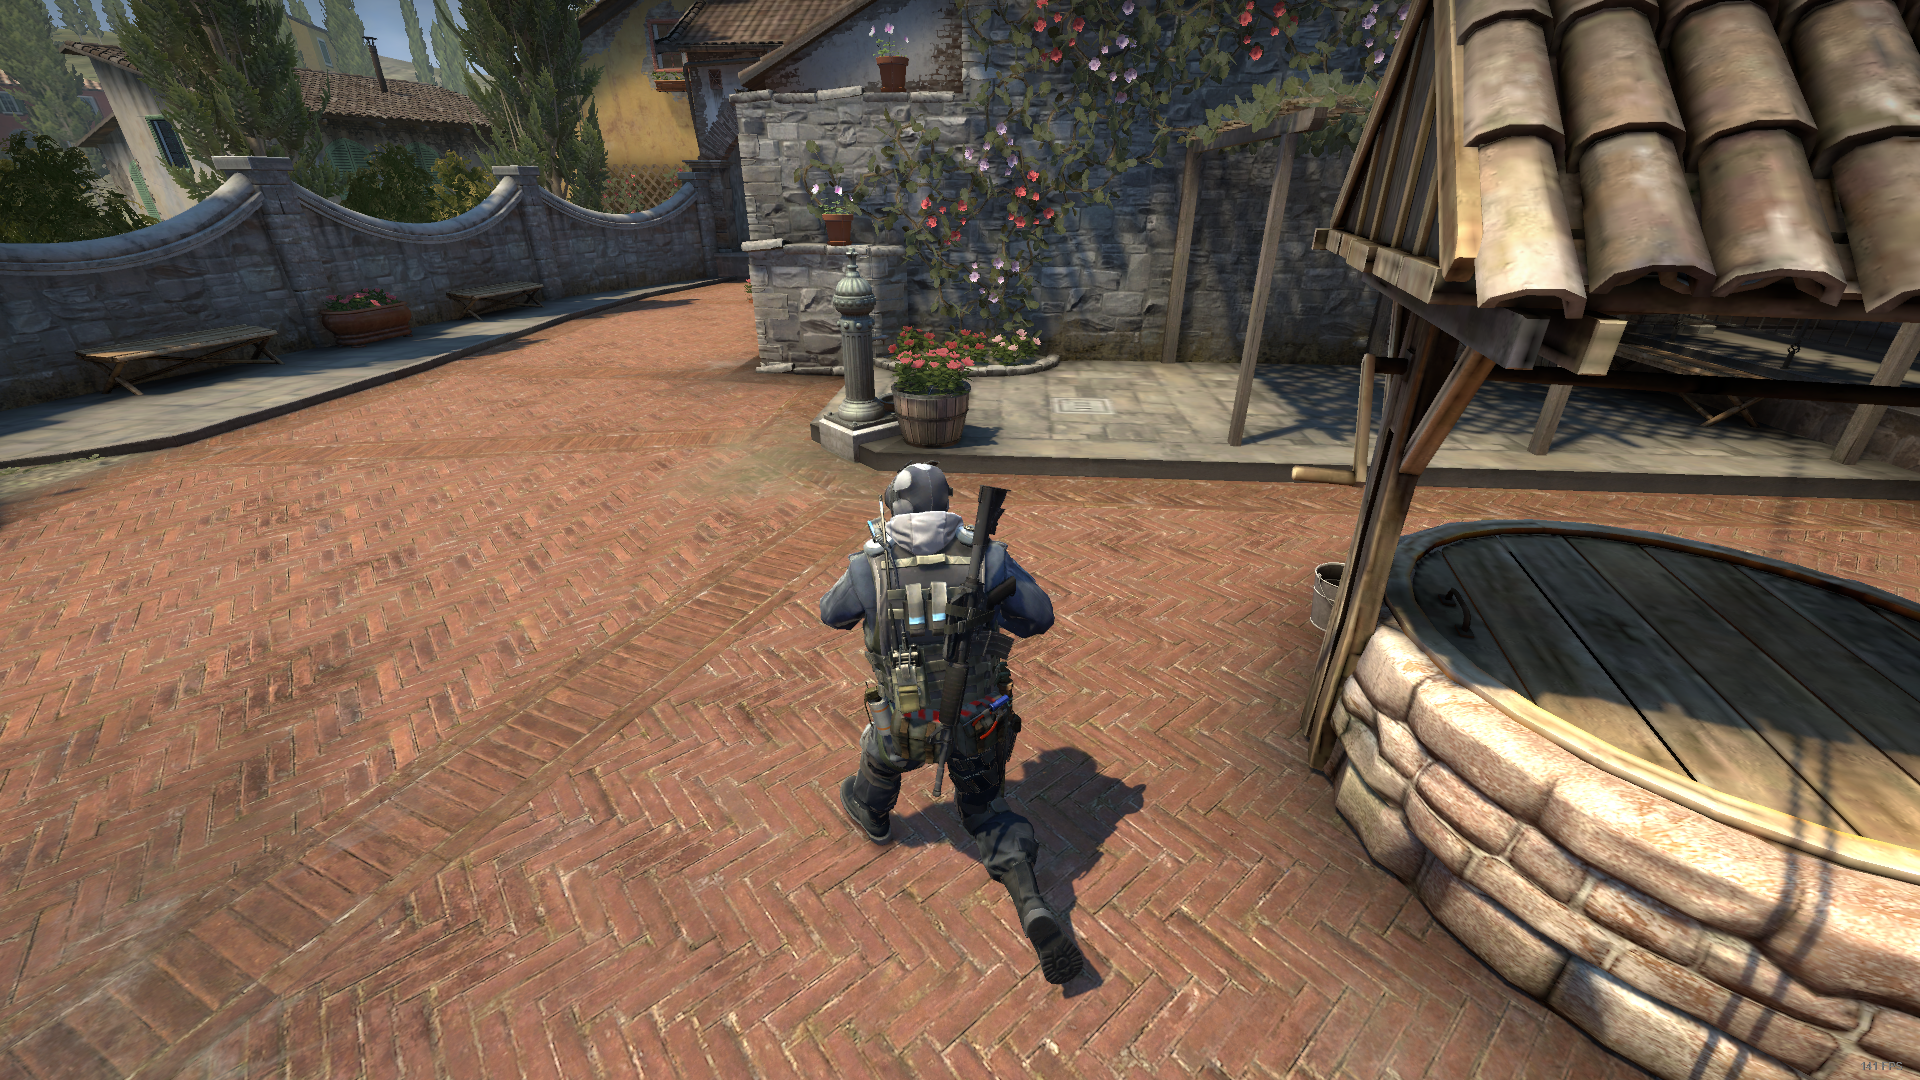ct: (819, 460, 1087, 978)
